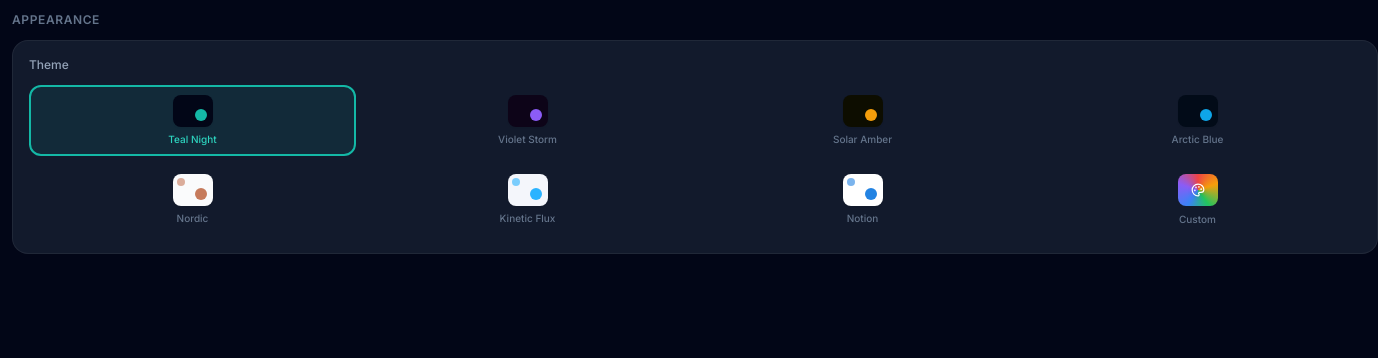
it: ThemeSection › shows color picker when custom swatch is selected
This screenshot has width=1378, height=358.
Click the radio button labelled "Custom". click: (1198, 200)
box: x1=1034 y1=164 x2=1361 y2=236
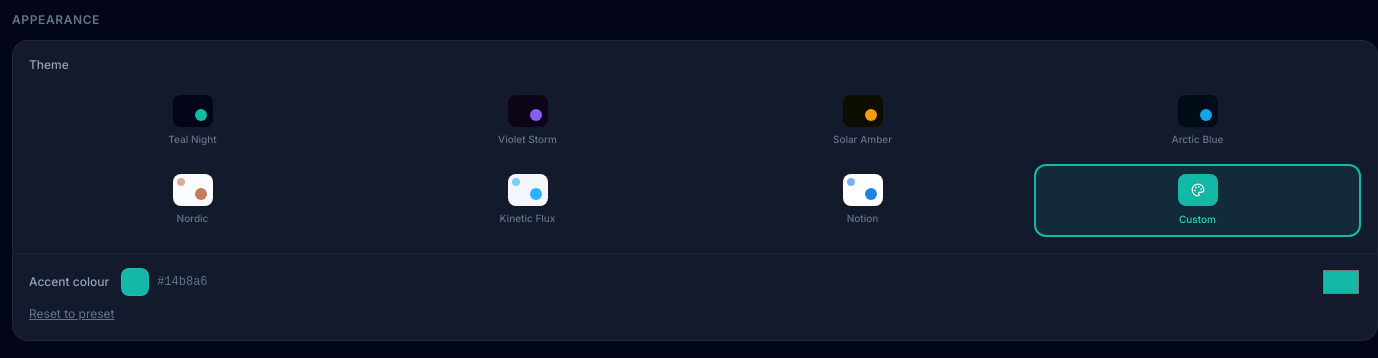
Check: the colour field labelled "Accent colour" is shown, box x1=1321 y1=266 x2=1361 y2=298
